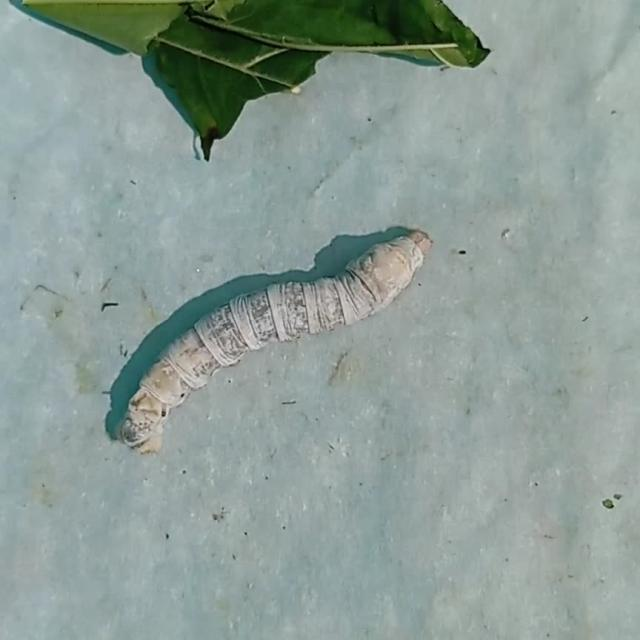Grasserie: (89, 211, 494, 470)
